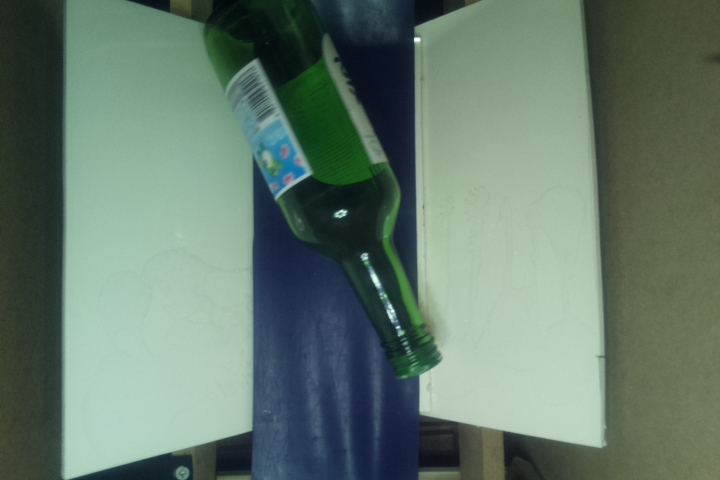soju: (199, 1, 449, 383)
